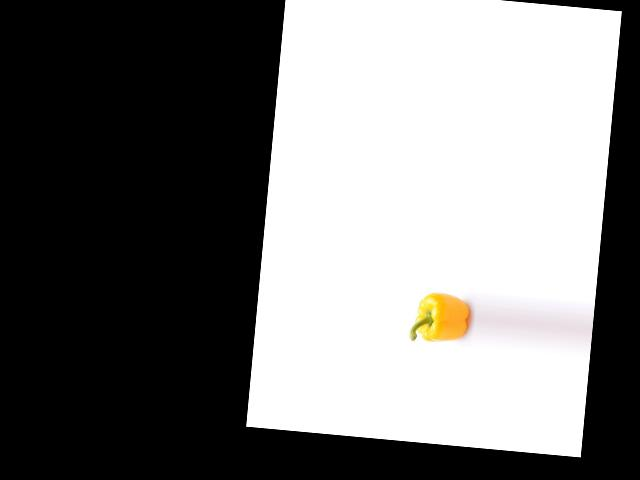bell_pepper: (411, 286, 472, 347)
